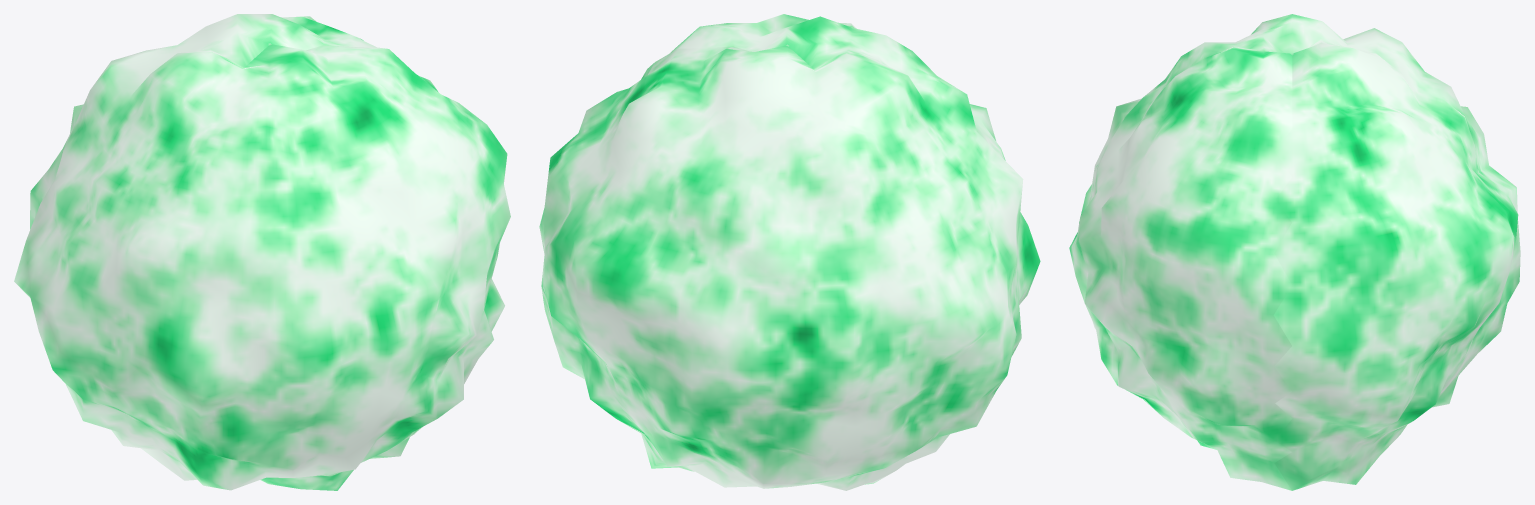
The model's file is fireball_emerald.glb.
The picture shows the model from 3 angles, left to right: view 1: azimuth 30°, elevation 25°; view 2: azimuth 150°, elevation 25°; view 3: azimuth 270°, elevation 25°; orthographic projection. The views are drawn at different scales.
Visible parts, largest first — view 1: fireball; view 2: fireball; view 3: fireball.
Part boxes in pixels (bbox=[...]): fireball: bbox=[14, 14, 510, 490]; fireball: bbox=[539, 14, 1040, 490]; fireball: bbox=[1069, 14, 1520, 490].
Bounding box in the file's own units: 2.29 × 2.14 × 2.2.
1 material, 1 textured.
